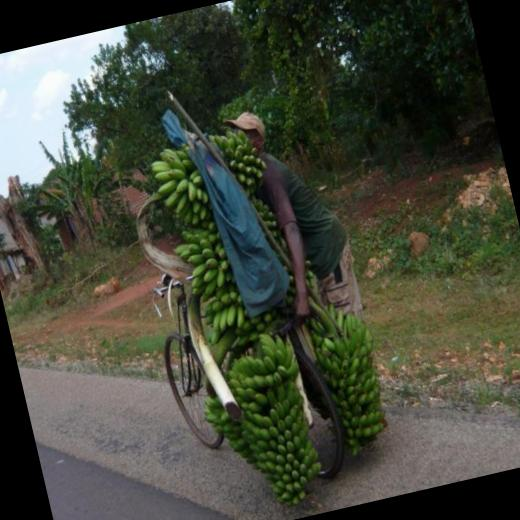Banana: (142, 103, 410, 518), (183, 177, 200, 202)
